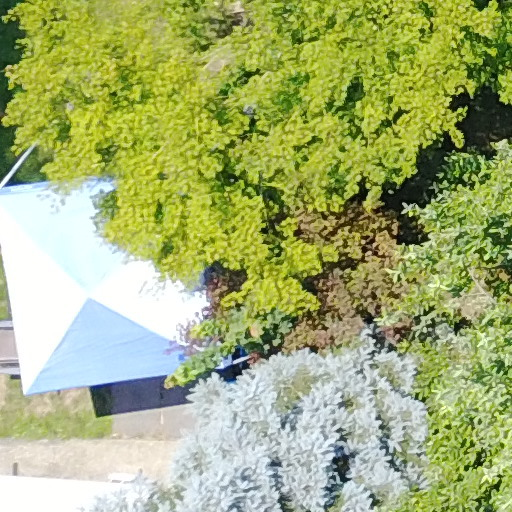umbrella: (1, 144, 240, 401)
